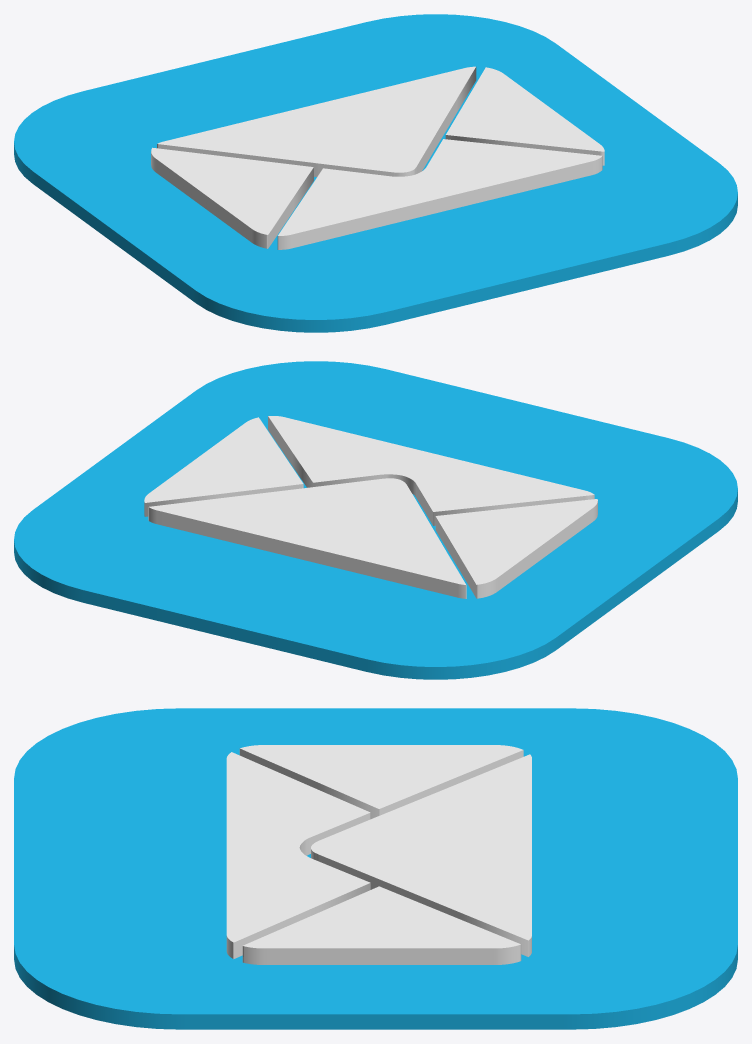
The model's file is email.glb.
3 views of the same model, one above another, from view 1: azimuth 30°, elevation 25°; view 2: azimuth 150°, elevation 25°; view 3: azimuth 270°, elevation 25° (orthographic). The views are drawn at different scales.
Parts seen in each view (by area): view 1: rect2996, rect3027; view 2: rect2996, rect3027; view 3: rect2996, rect3027.
Part boxes in pixels (x1,y1,x2,y2): rect2996: [14, 14, 737, 332]; rect3027: [151, 66, 604, 249]; rect2996: [14, 361, 737, 679]; rect3027: [144, 416, 597, 598]; rect2996: [14, 708, 737, 1029]; rect3027: [226, 745, 531, 964].
Size of the model in its own units: 3.92 by 0.1902 by 3.92.
